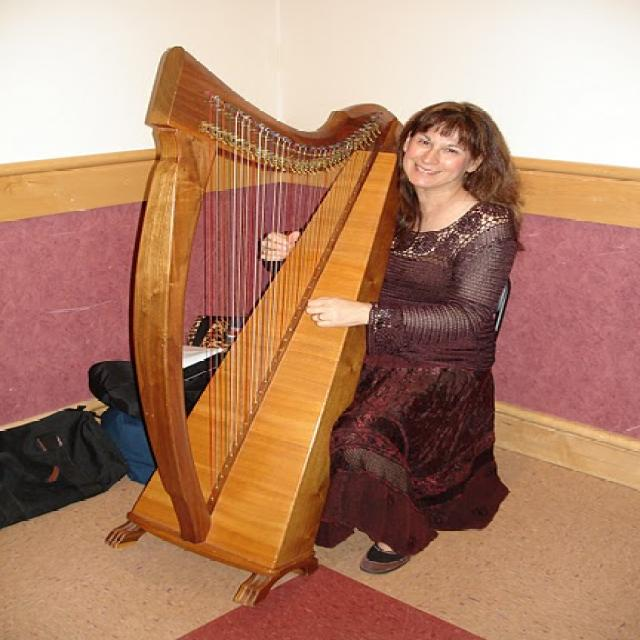harp: (126, 41, 417, 606)
